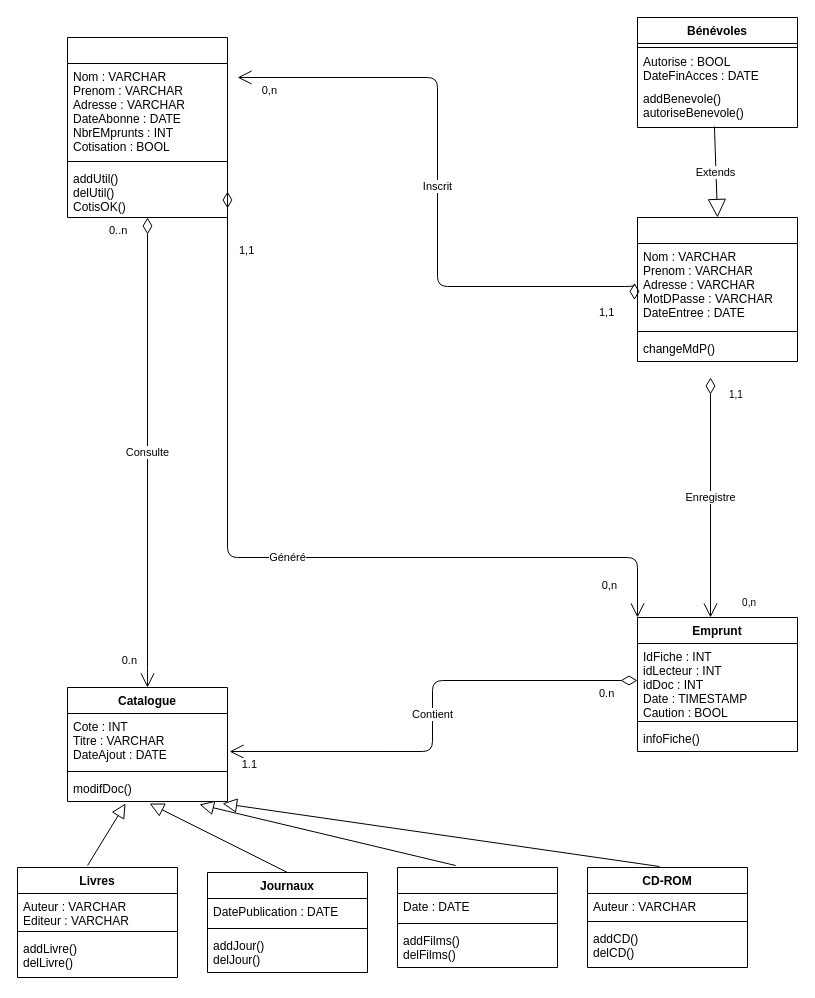
The diagram is 815 pixels wide and 998 high, and some of its shapes have lost their labels. The shapes that lost their labels are listed below. From the top down, each one's box as (x1, y1, x2, y2) in pixels, then its label:
(66, 36, 228, 218): Utilisateur
(636, 216, 798, 362): Employés
(396, 866, 558, 968): Microfilms
